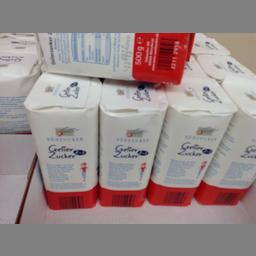sugar: (150, 76, 234, 206), (22, 71, 100, 209), (31, 32, 193, 85), (100, 78, 166, 207), (198, 76, 255, 206)
